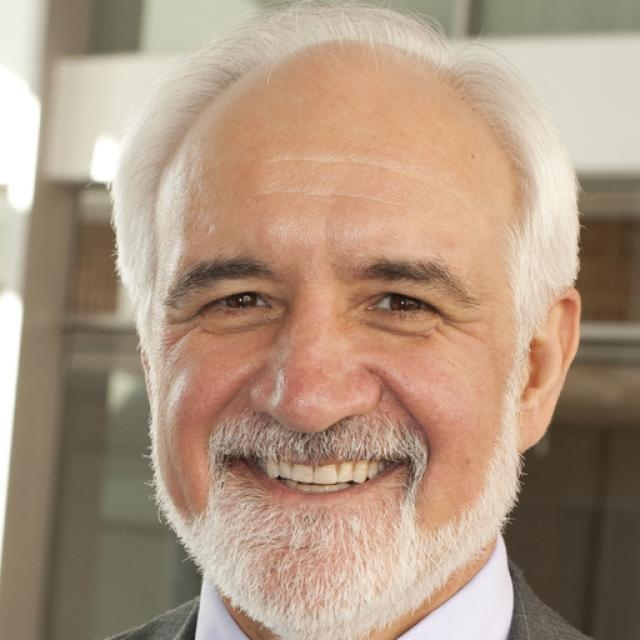happy: (142, 37, 528, 634)
